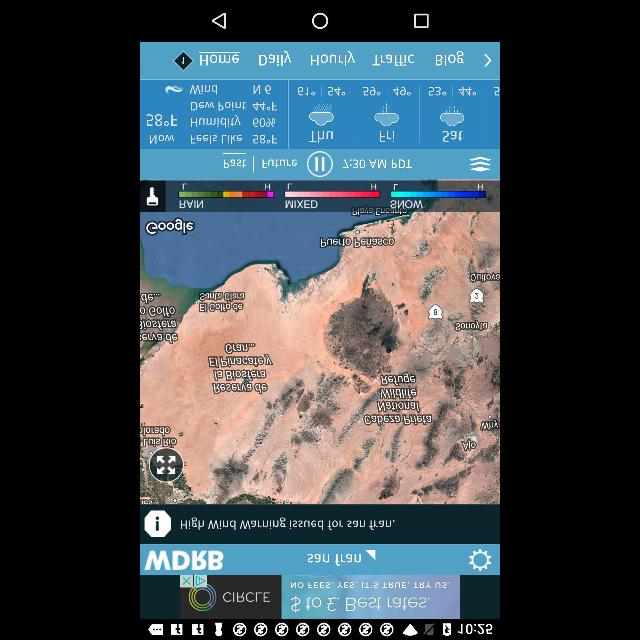icon: (354, 81, 420, 149), (420, 80, 484, 150), (288, 82, 354, 148), (144, 510, 172, 538), (468, 547, 492, 573), (154, 453, 178, 477), (468, 157, 492, 173), (310, 12, 330, 30), (211, 12, 227, 30), (414, 13, 430, 29), (147, 186, 159, 207), (314, 155, 326, 173), (484, 52, 492, 68)
iframe: (182, 576, 460, 618)
image: (141, 79, 499, 149), (143, 548, 224, 570), (390, 182, 488, 198), (177, 184, 275, 198), (285, 184, 381, 198), (162, 84, 184, 96)
map: (141, 212, 499, 503)
panel: (141, 1, 499, 41)
text: (180, 516, 396, 530), (342, 157, 412, 169), (190, 115, 240, 127), (190, 101, 248, 111), (190, 134, 243, 144), (146, 112, 178, 128), (308, 129, 334, 143), (252, 132, 278, 144), (190, 84, 218, 95), (252, 116, 276, 128), (252, 99, 276, 111), (285, 200, 319, 208), (178, 199, 205, 209), (391, 200, 424, 208), (252, 84, 274, 96), (148, 134, 174, 144), (378, 130, 396, 144), (442, 130, 463, 142), (326, 85, 346, 97), (361, 86, 382, 96), (296, 86, 316, 96), (393, 85, 411, 96), (428, 85, 446, 96), (459, 85, 477, 96)
textbutton: (306, 548, 378, 566), (309, 51, 356, 67), (200, 51, 240, 67), (372, 53, 416, 67), (260, 158, 298, 172), (435, 51, 465, 67), (258, 52, 292, 66), (222, 153, 248, 170)
uppertaskbar: (140, 619, 500, 639)
